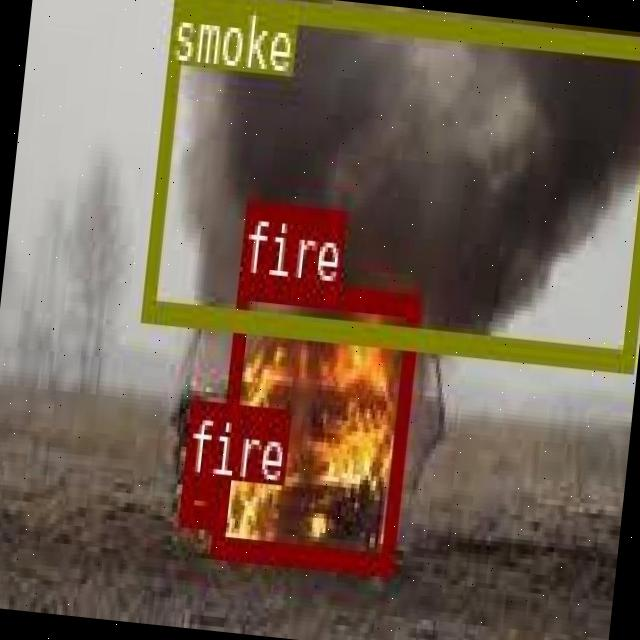fire: (210, 272, 420, 570), (178, 471, 218, 524)
smoke: (138, 0, 640, 365)
